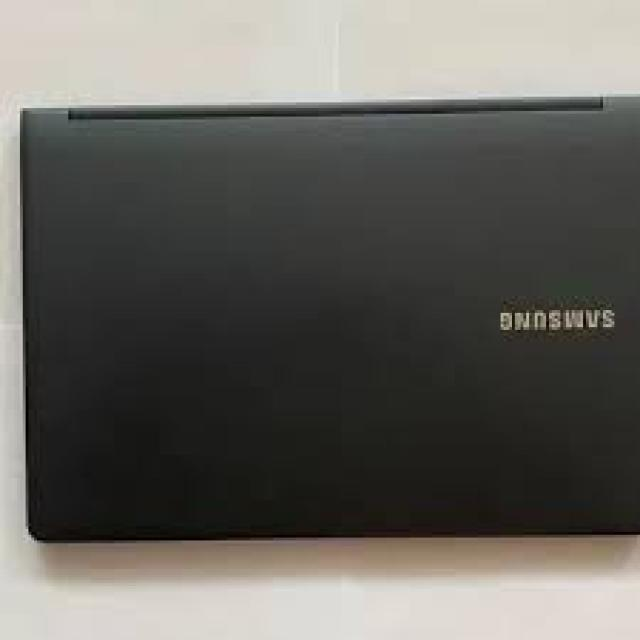laptop: (18, 92, 639, 542)
